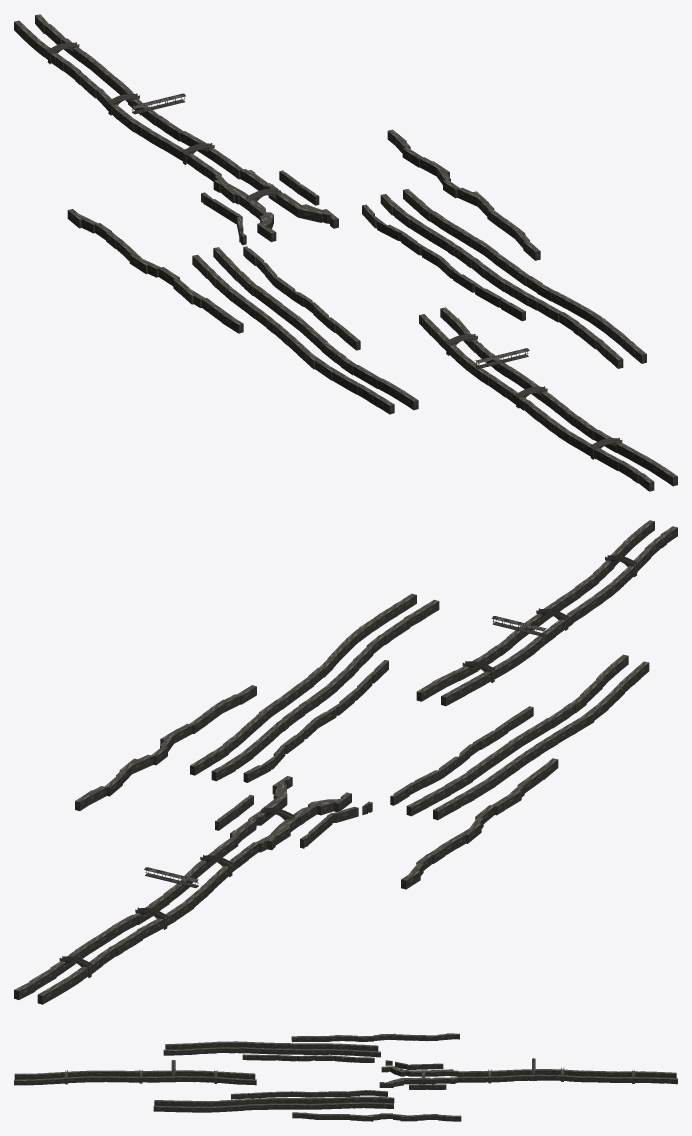
File: canal_distant.glb
3 views of the same model, one above another, from view 1: azimuth 30°, elevation 25°; view 2: azimuth 150°, elevation 25°; view 3: azimuth 270°, elevation 25° (orthographic). The views are drawn at different scales.
Parts seen in each view (by area): view 1: canal_distant0, canal_distant1; view 2: canal_distant0, canal_distant1; view 3: canal_distant0, canal_distant1.
Part boxes in pixels (x1,y1,x2,y2): canal_distant0: (14, 14, 677, 491); canal_distant1: (47, 42, 529, 368); canal_distant0: (14, 520, 677, 1004); canal_distant1: (59, 616, 546, 977); canal_distant0: (14, 1033, 677, 1121); canal_distant1: (171, 1058, 634, 1083).
Bounding box in the file's own units: 104 × 8.93 × 347.
Materials: 1 (1 with a texture image).
